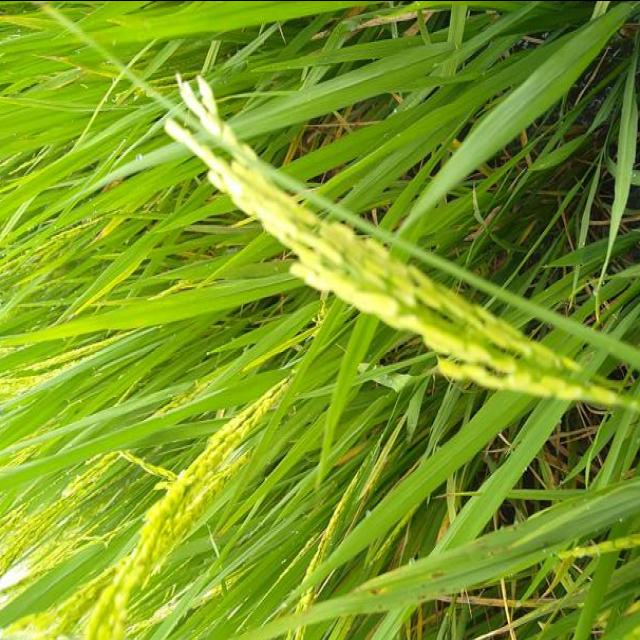Leaf Streak: (368, 558, 470, 595)
